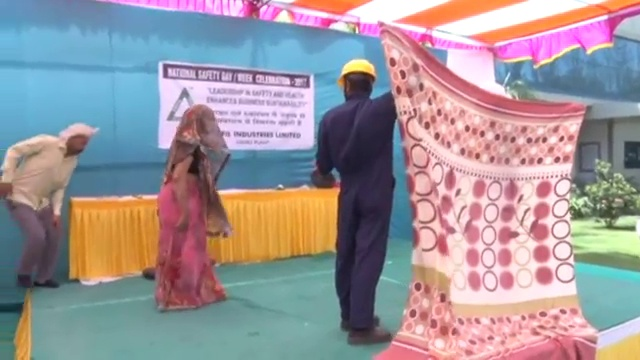helmet: (336, 58, 377, 86)
helmet_off: (60, 122, 96, 157), (184, 104, 214, 132)
helmet_on: (334, 57, 378, 103)
person: (313, 57, 398, 344), (144, 102, 239, 313), (1, 121, 103, 291)
